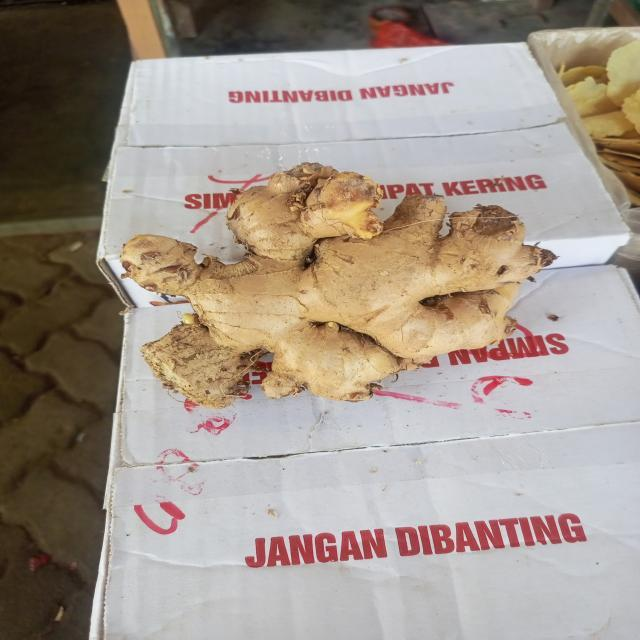ginger: (122, 164, 554, 403)
